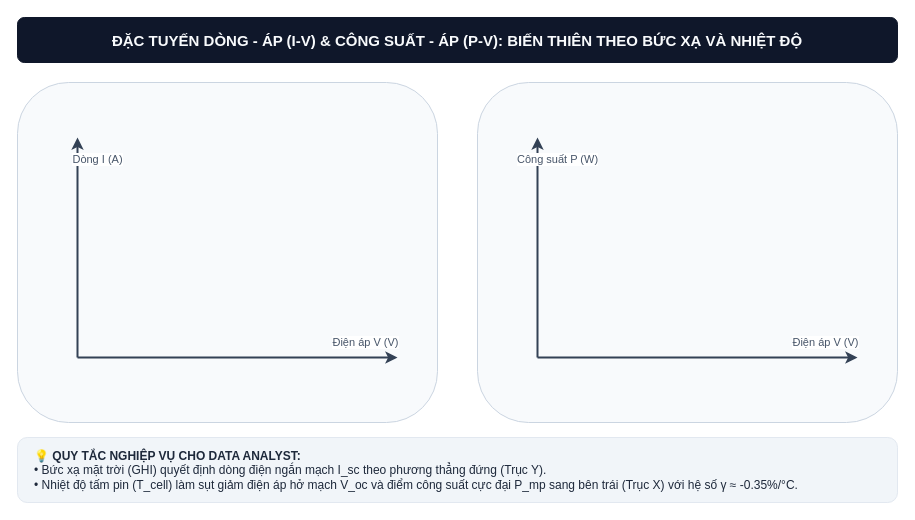
Some shapes in this 915 by 520 pixel diagram are drawn without their labels. The centre of each missing label's shape, as x and y in pixels:
"ĐẶC TUYẾN I-V THEO BỨC XẠ (GHI)" belongs at (227,252).
"ĐẶC TUYẾN P-V THEO NHIỆT ĐỘ (T_cell)" belongs at (687,252).
